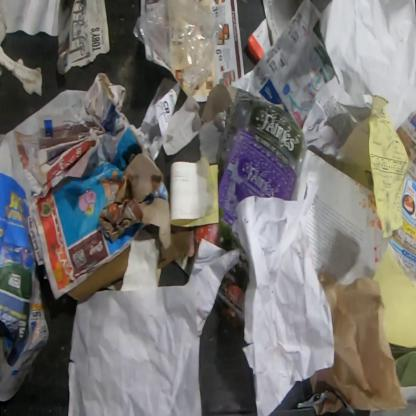cardboard: (65, 243, 132, 302)
soft_plastic: (132, 0, 225, 98)
